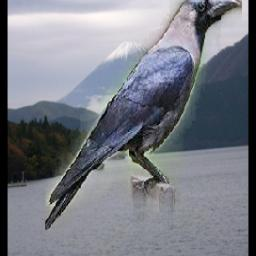Crow: (44, 0, 241, 230)
